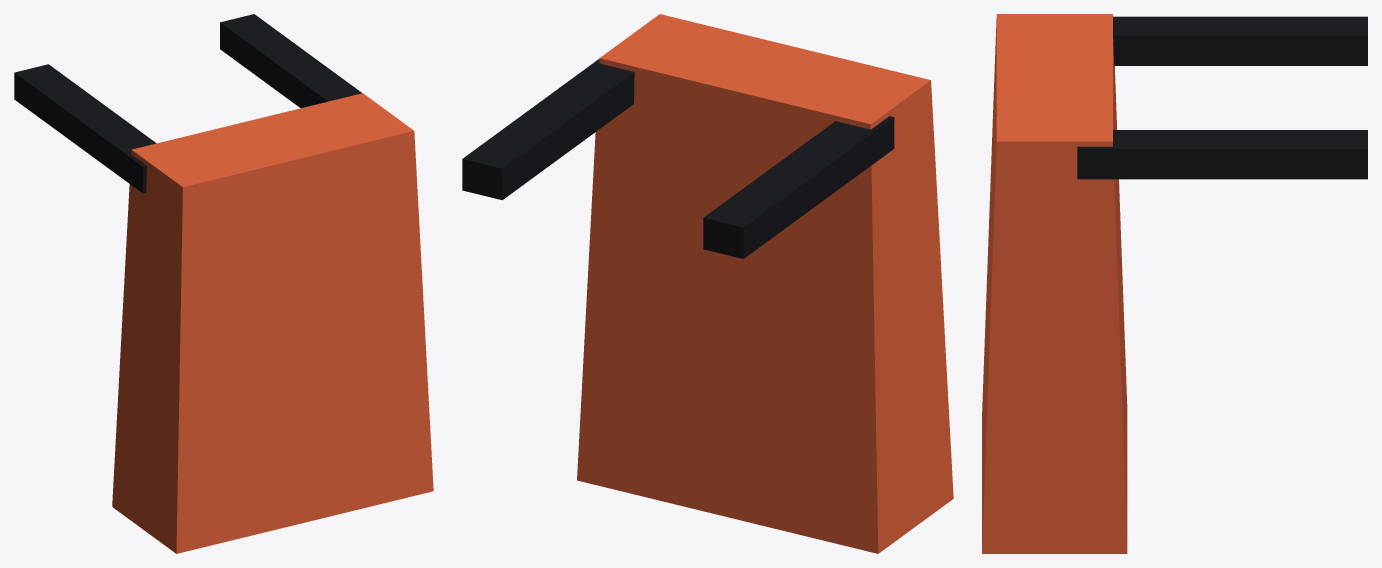
File: acc_parachute_pack.glb
3 renders of one model, left to right at view 1: azimuth 30°, elevation 25°; view 2: azimuth 150°, elevation 25°; view 3: azimuth 270°, elevation 25°, orthographic. The views are drawn at different scales.
Parts seen in each view (by area): view 1: acc_parachute_pack__mesh; view 2: acc_parachute_pack__mesh; view 3: acc_parachute_pack__mesh.
Boxes of the visible parts, x1,y1,x2,y2 form: acc_parachute_pack__mesh: (14, 14, 433, 553); acc_parachute_pack__mesh: (462, 14, 953, 553); acc_parachute_pack__mesh: (982, 14, 1367, 553).
Bounding box in the file's own units: 0.3 × 0.4 × 0.345.
